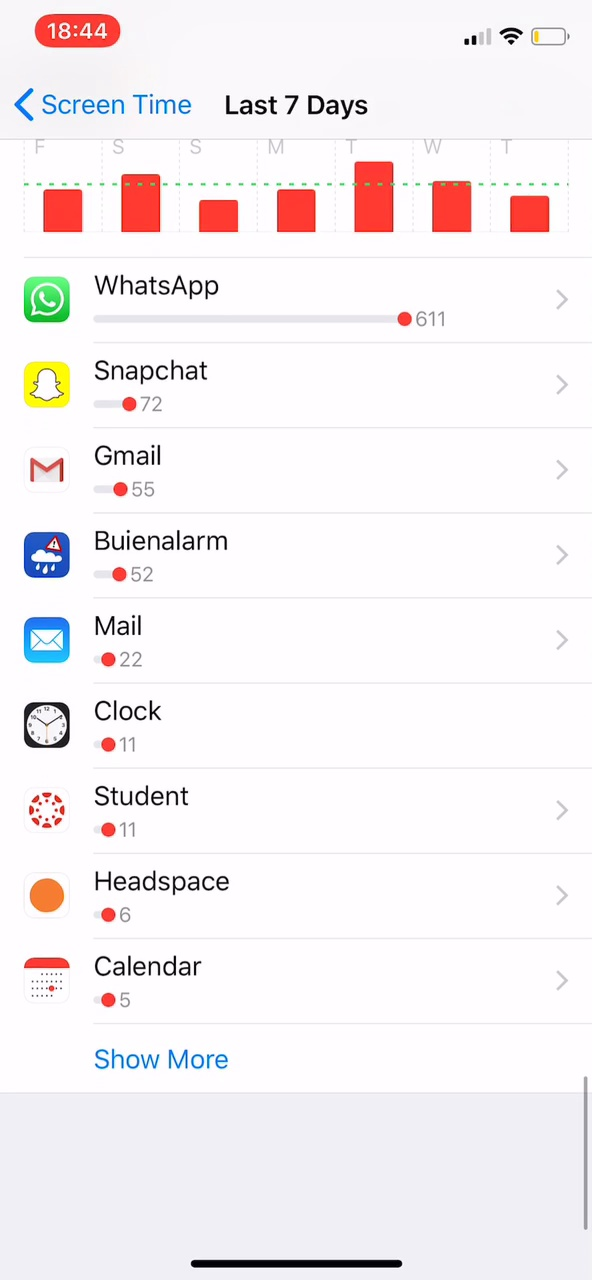not_app: (12, 253, 476, 340), (14, 344, 264, 427), (11, 518, 256, 600), (12, 858, 247, 938), (7, 938, 223, 1021), (14, 432, 217, 516), (15, 687, 217, 771), (14, 771, 204, 852), (14, 603, 198, 682)
week: (209, 83, 376, 122)
